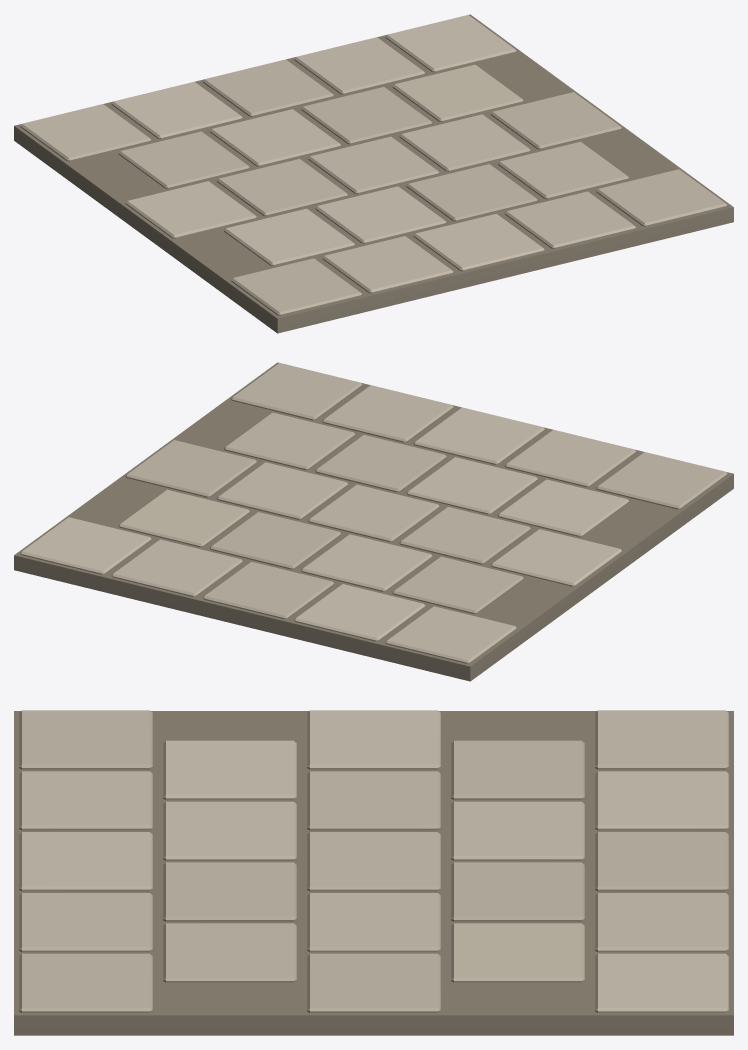
Rendered from paving.glb.
The picture shows the model from 3 angles, top to bottom: view 1: azimuth 30°, elevation 25°; view 2: azimuth 150°, elevation 25°; view 3: azimuth 270°, elevation 25°; orthographic projection. The views are drawn at different scales.
Parts seen in each view (by area): view 1: paving; view 2: paving; view 3: paving.
Boxes of the visible parts, box(x1,y1,x2,y2) form: paving: box(14, 14, 733, 333); paving: box(14, 362, 733, 681); paving: box(14, 710, 733, 1035).
Size of the model in its own units: 4 by 0.15 by 4.
